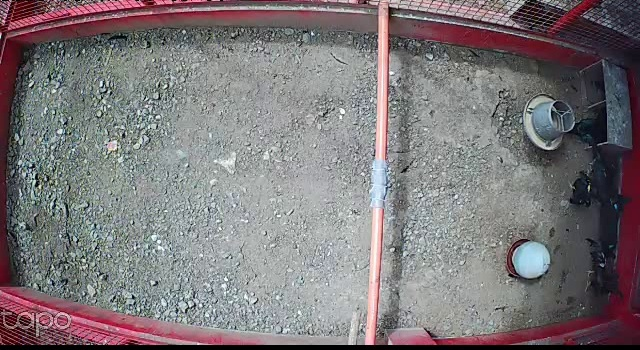Chicken: (565, 112, 610, 150), (564, 169, 603, 211)
Drinker: (503, 238, 552, 281)
Feeder: (522, 91, 578, 149)
Rooster: (576, 236, 631, 302)
Saddle_Color_Yellow: (587, 184, 590, 192)
